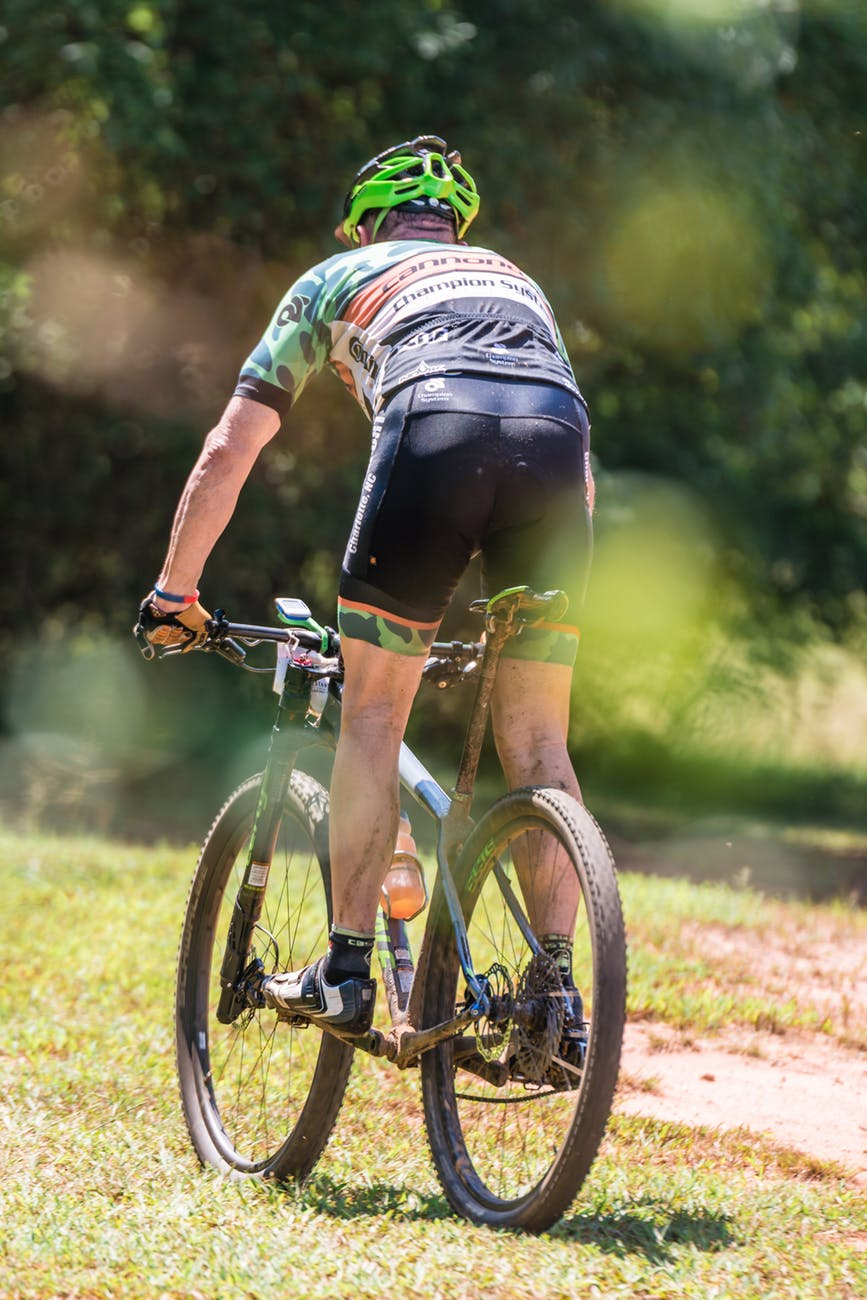helmet: (348, 153, 484, 243)
